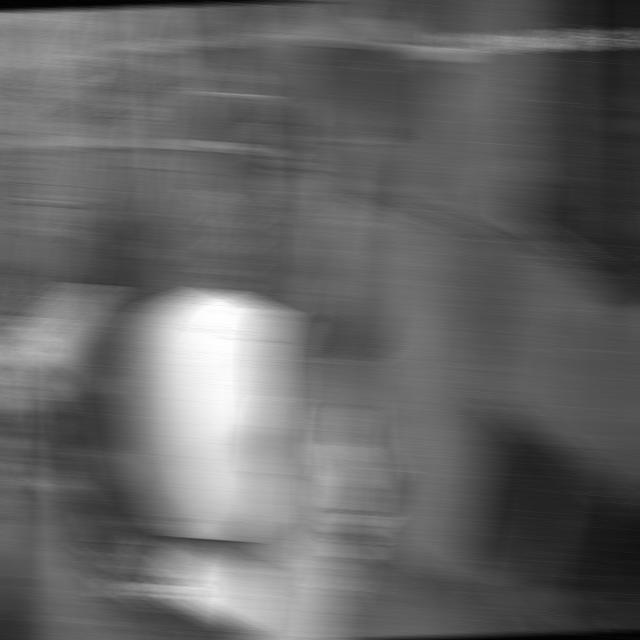cement_mixer_truck: (0, 267, 395, 638)
swing_chute: (281, 115, 399, 348)
